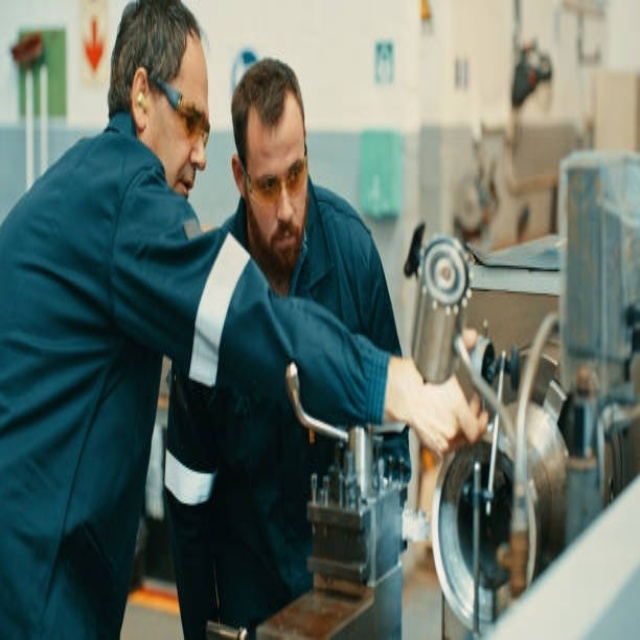Gafas: (147, 74, 211, 148), (245, 143, 308, 205)
Sin_guantes: (398, 338, 489, 458)
Sin_mascara: (268, 222, 300, 267), (174, 160, 204, 204)
